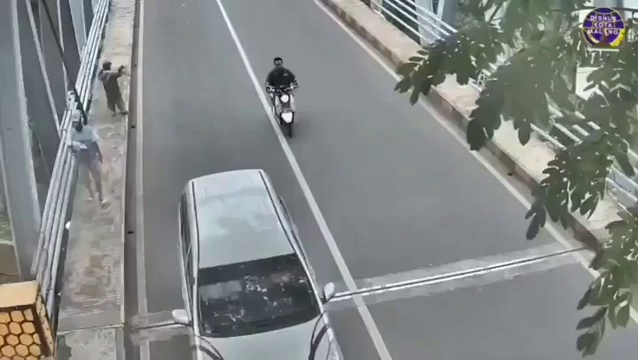car: (172, 165, 341, 360)
motorbike: (263, 59, 297, 141)
